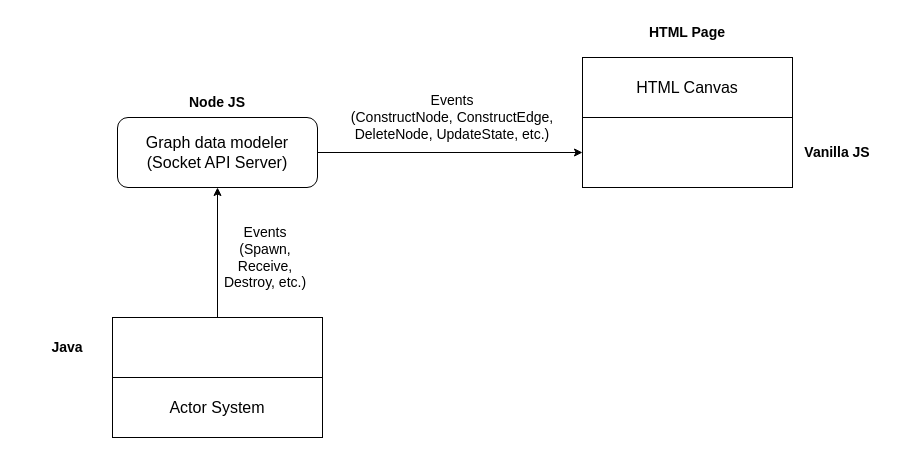
This 909x455 diagram has some shape labels left out. The shapes that lost their labels are listed below. From the top down, each one's centre as x and y in pixels, then its label:
point 687,152: Graph Processor (Socket client)
point 217,347: Akka interceptor (Socket client)
